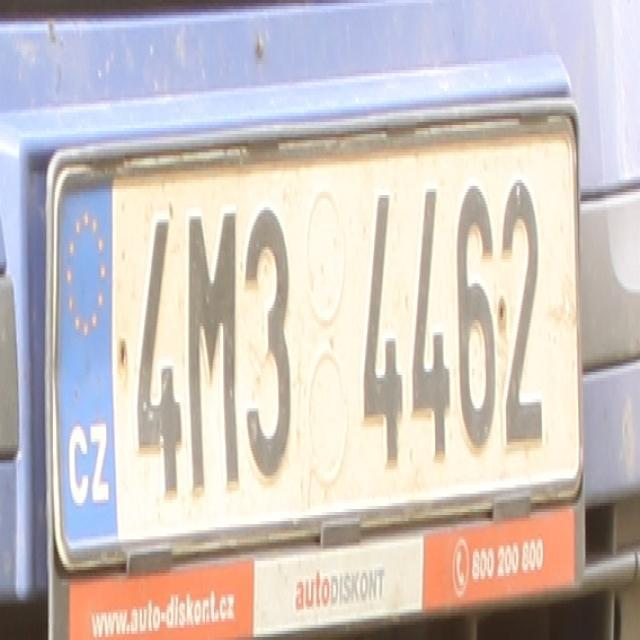2: (502, 170, 546, 452)
3: (243, 201, 292, 506)
4: (132, 210, 182, 509), (409, 176, 451, 478), (363, 189, 403, 488)
6: (454, 183, 497, 467)
M: (186, 204, 241, 503)
